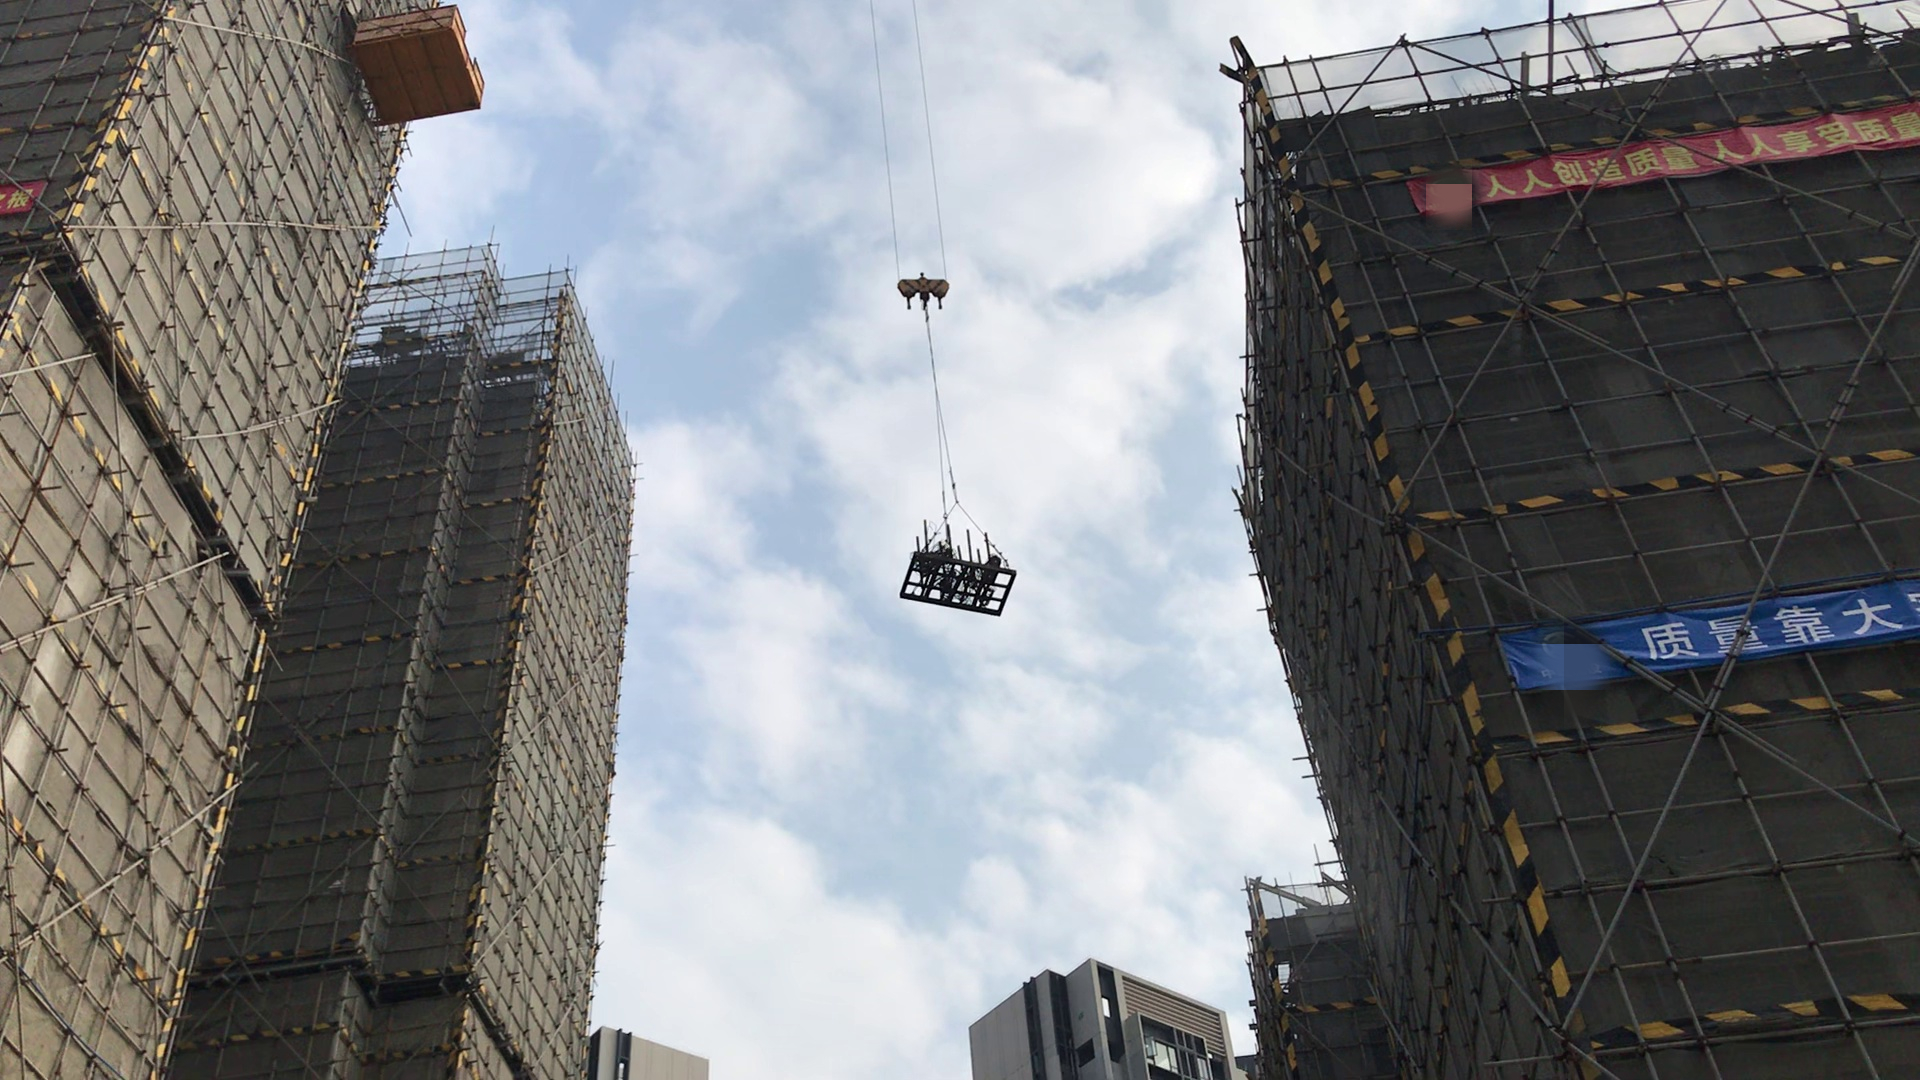hook: (889, 264, 953, 318)
slogan: (1415, 113, 1920, 286), (1507, 585, 1920, 680)
